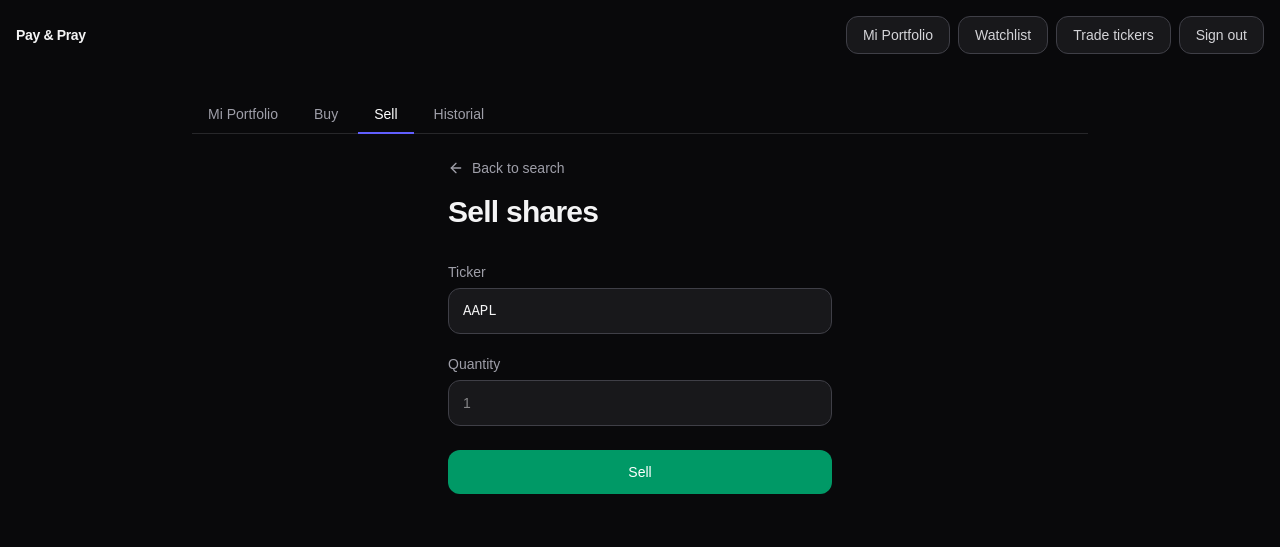
Test: Portfolio trade forms › renders backend sell errors in the form
Type "10" into the number field labelled "Quantity".
click(640, 403); type("10")  # box [448,380,832,426]
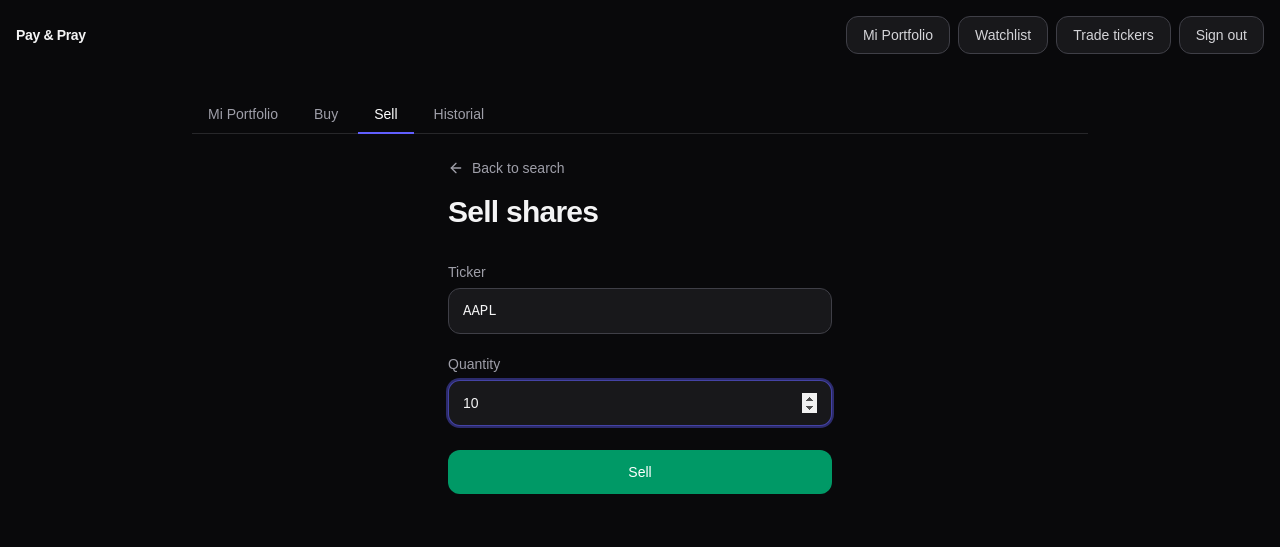
Click the button "Sell".
click(640, 472)  # box [448,450,832,494]
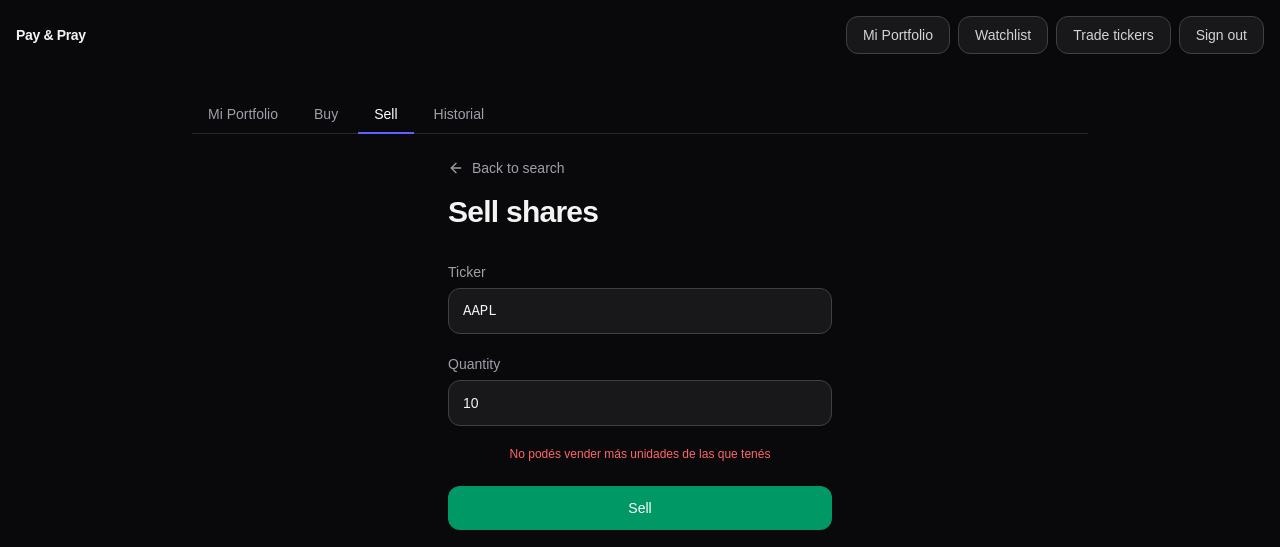
Expected: the text "No podés vender más unidades de las que tenés" is shown, [510,447,770,461]
